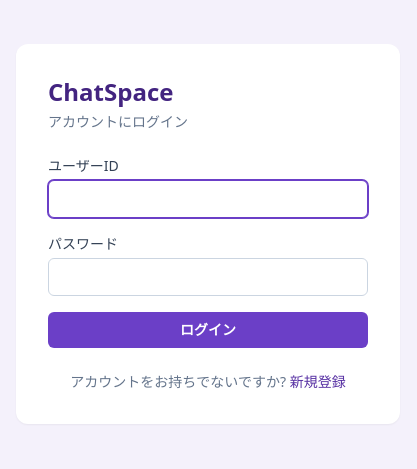
LoginPage › APIのエラーメッセージをそのまま表示する
This screenshot has width=417, height=469.
In the field labelled "ユーザーID": (208, 199) [48,180,368,218], type "alice"
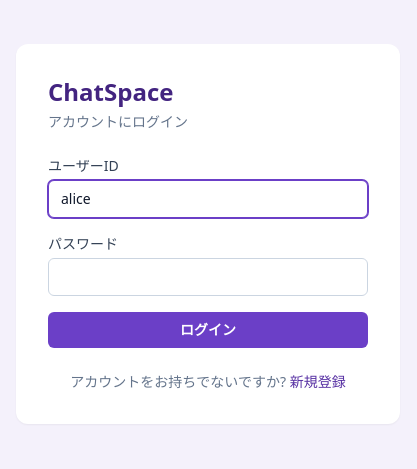
In the password field labelled "パスワード": (208, 277) [48,258,368,296], type "wrong"
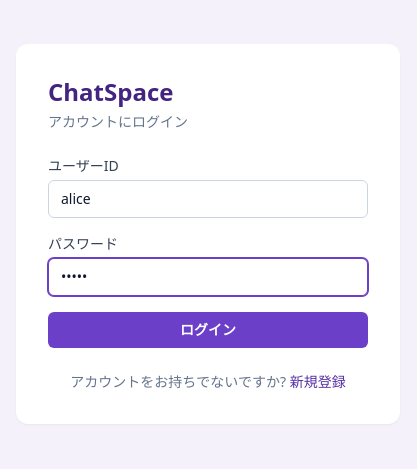
Click the button "ログイン": (208, 330) [48,312,368,348]
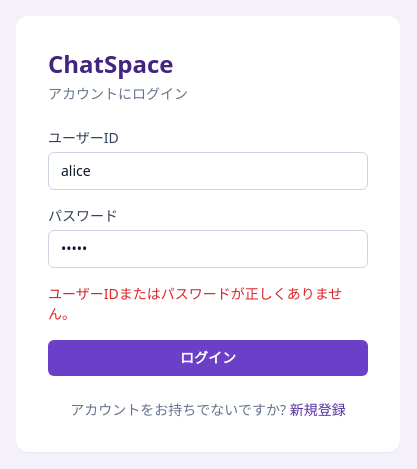
Expected: the text "ユーザーIDまたはパスワードが正しくありません。" is shown, [48,284,368,324]
